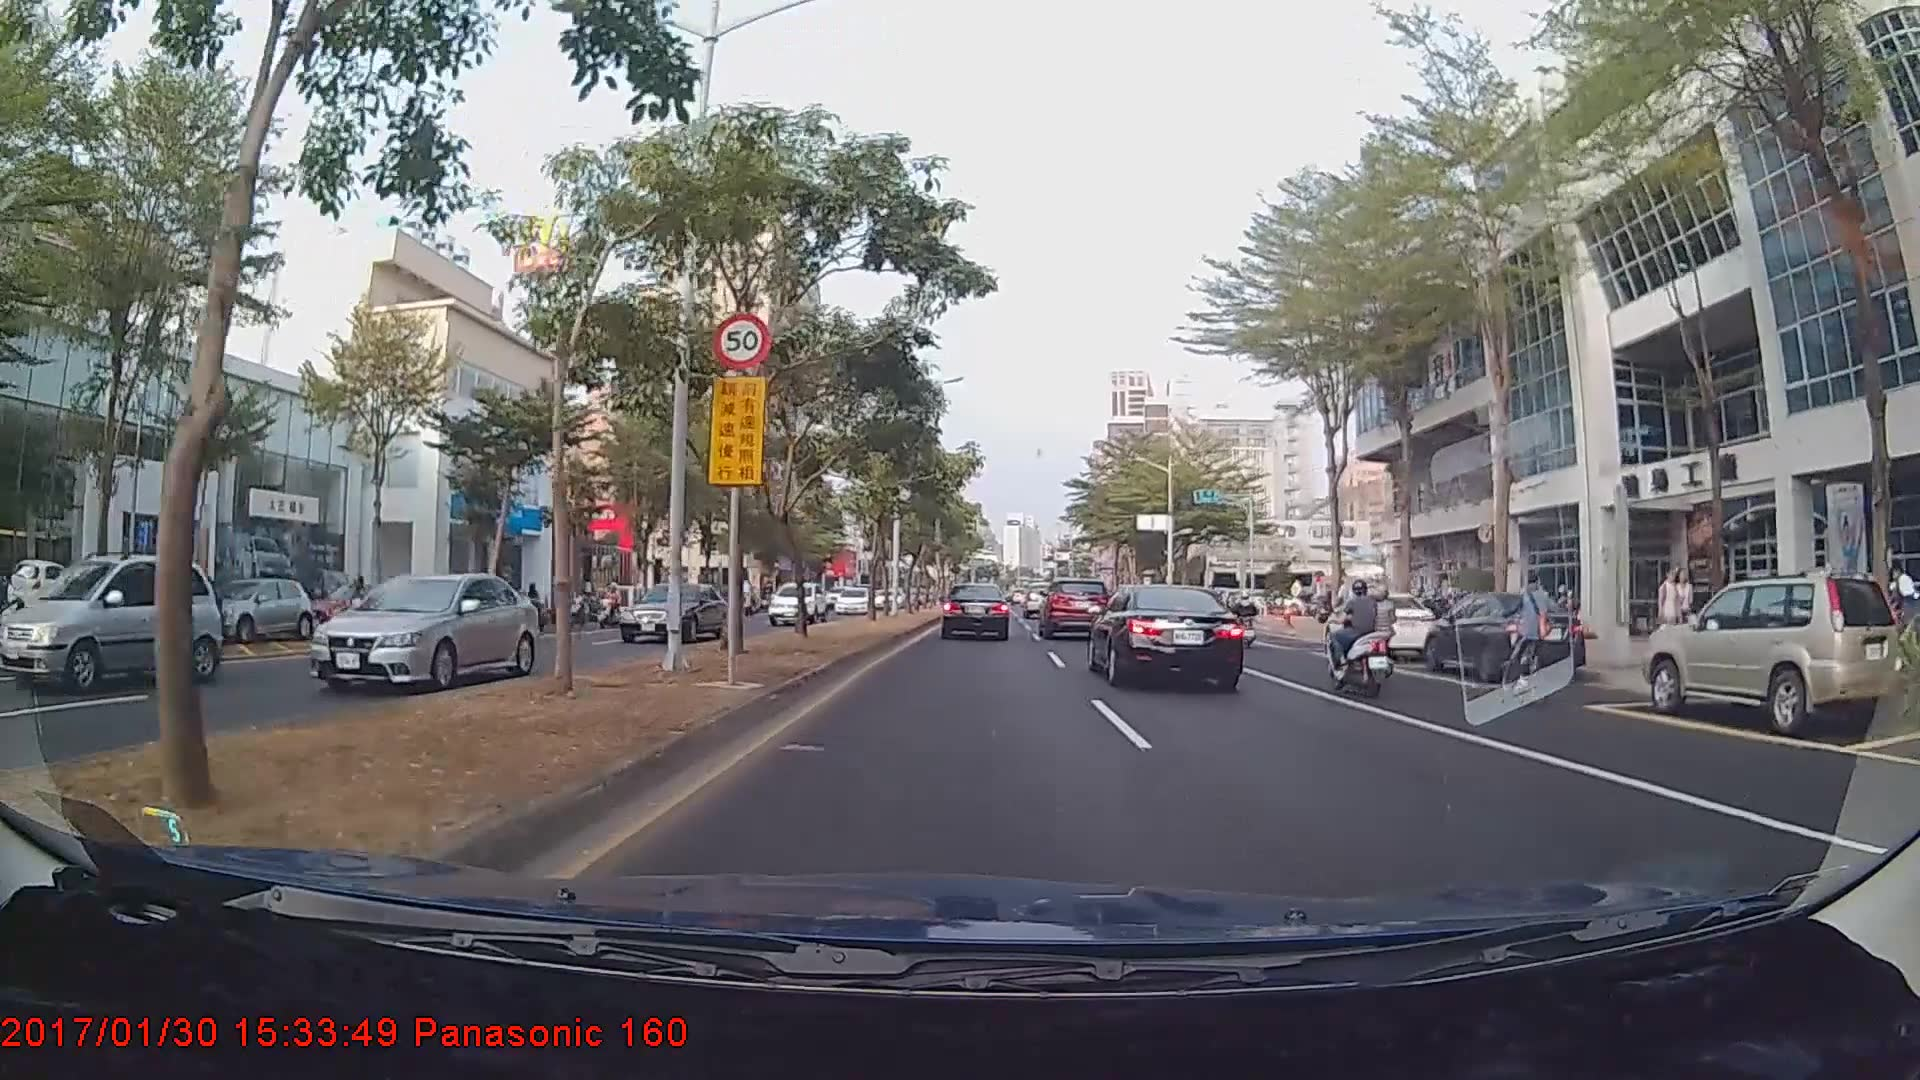pedestrian: (1659, 568, 1686, 657), (1674, 570, 1698, 655)
rider: (1493, 573, 1568, 712), (1321, 576, 1403, 702), (1364, 582, 1415, 679), (1230, 593, 1263, 642)
vehicle: (1636, 572, 1899, 737), (0, 550, 222, 695), (304, 571, 540, 693), (1091, 578, 1245, 692), (1420, 587, 1584, 681), (1321, 591, 1444, 665), (616, 578, 730, 643), (201, 577, 315, 641), (297, 579, 410, 637), (939, 582, 1011, 641), (1039, 579, 1106, 639), (765, 582, 827, 626), (1022, 581, 1061, 618), (834, 587, 869, 615)
